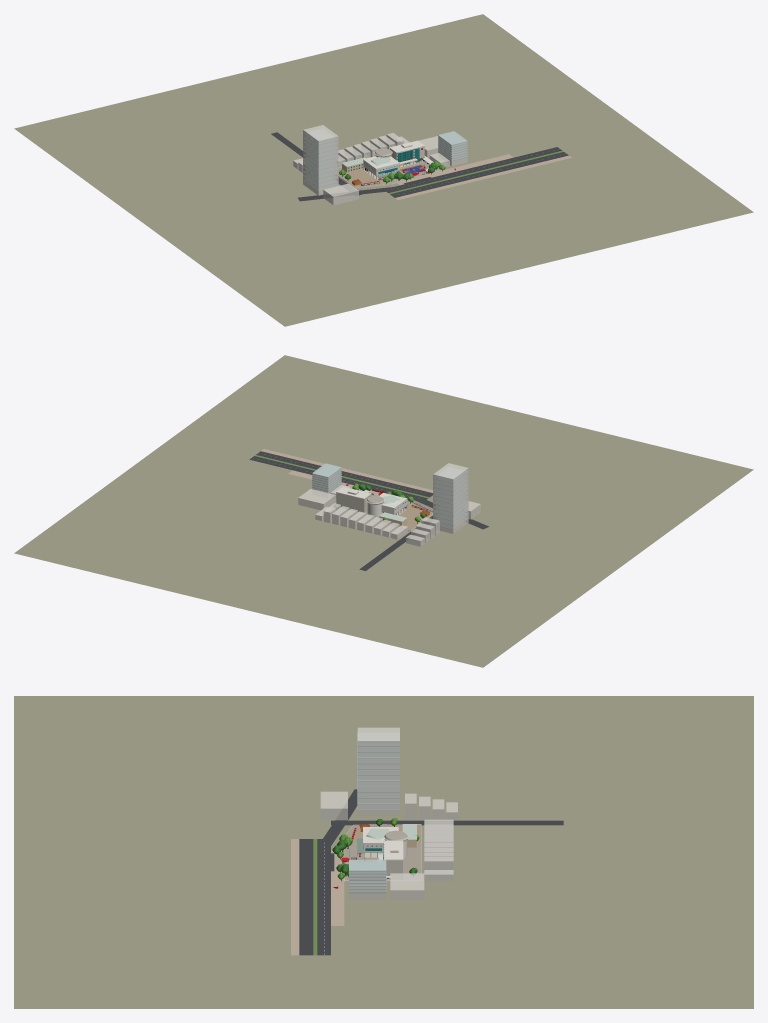
The model's file is NhaVanHoaThanhNien_BRVT.glb.
The picture shows the model from 3 angles, top to bottom: view 1: azimuth 30°, elevation 25°; view 2: azimuth 150°, elevation 25°; view 3: azimuth 270°, elevation 25°; orthographic projection. The views are drawn at different scales.
Parts seen in each view (by area): view 1: Nen_ngoai, Cong_trinh_xung_quanh, Fusion_Suites, Duong_Ha_Long_lan_ngoai, Duong_Ha_Long_lan_trong, Khach_san_Buu_Dien, Bo_ke, Via_he_san_truoc_cong; view 2: Nen_ngoai, Cong_trinh_xung_quanh, Fusion_Suites, Duong_Ha_Long_lan_ngoai, Khach_san_Buu_Dien, Duong_Ha_Long_lan_trong, Bo_ke; view 3: Nen_ngoai, Cong_trinh_xung_quanh, Fusion_Suites, Duong_Ha_Long_lan_ngoai, Khach_san_Buu_Dien, Duong_Ha_Long_lan_trong, Duong_Phan_Boi_Chau, Bo_ke, Via_he_san_truoc_cong, Khuon_vien, Cay_xanh, Dai_phan_cach.
Part boxes in pixels (x1,y1,x2,y2): Nen_ngoai: (14,14,753,326); Cong_trinh_xung_quanh: (293,129,467,205); Fusion_Suites: (303,125,338,195); Duong_Ha_Long_lan_ngoai: (390,152,568,197); Duong_Ha_Long_lan_trong: (386,147,561,192); Khach_san_Buu_Dien: (438,132,467,166); Bo_ke: (395,155,571,199); Via_he_san_truoc_cong: (395,154,513,185); Nen_ngoai: (14,355,753,667); Cong_trinh_xung_quanh: (298,463,480,546); Fusion_Suites: (433,463,468,533); Duong_Ha_Long_lan_ngoai: (256,451,432,497); Khach_san_Buu_Dien: (312,464,341,497); Duong_Ha_Long_lan_trong: (249,456,427,499); Bo_ke: (261,449,435,492); Nen_ngoai: (14,696,753,1008); Cong_trinh_xung_quanh: (320,733,457,899); Fusion_Suites: (357,727,399,815); Duong_Ha_Long_lan_ngoai: (299,839,313,955); Khach_san_Buu_Dien: (349,861,385,899); Duong_Ha_Long_lan_trong: (317,839,330,955); Duong_Phan_Boi_Chau: (331,820,563,825); Bo_ke: (291,839,299,955); Via_he_san_truoc_cong: (331,850,344,925); Khuon_vien: (343,842,420,880); Cay_xanh: (332,818,419,881); Dai_phan_cach: (313,839,317,955).
Size of the model in its own units: 700 by 79 by 700.
